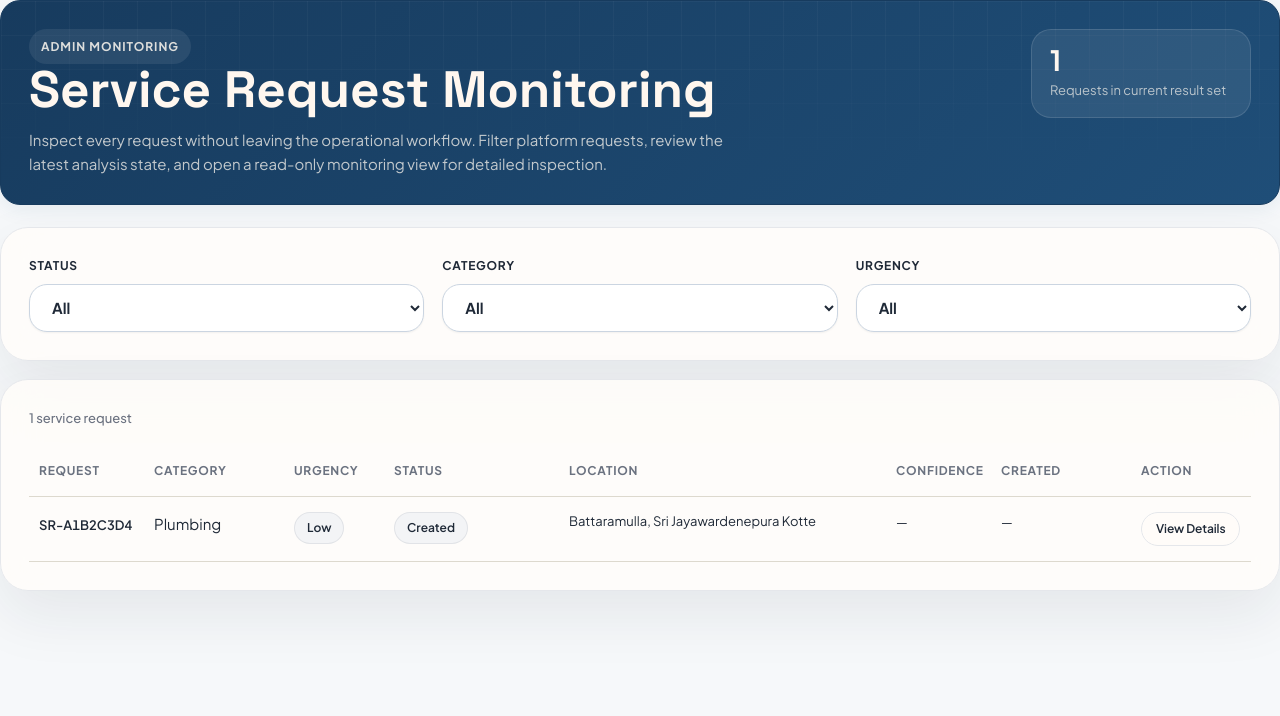
Persisted Admin location presentation › preserves both zero coordinate values
Click the button "View Details". click: (1191, 529)
box: [1141, 512, 1240, 546]
(page scrolled)
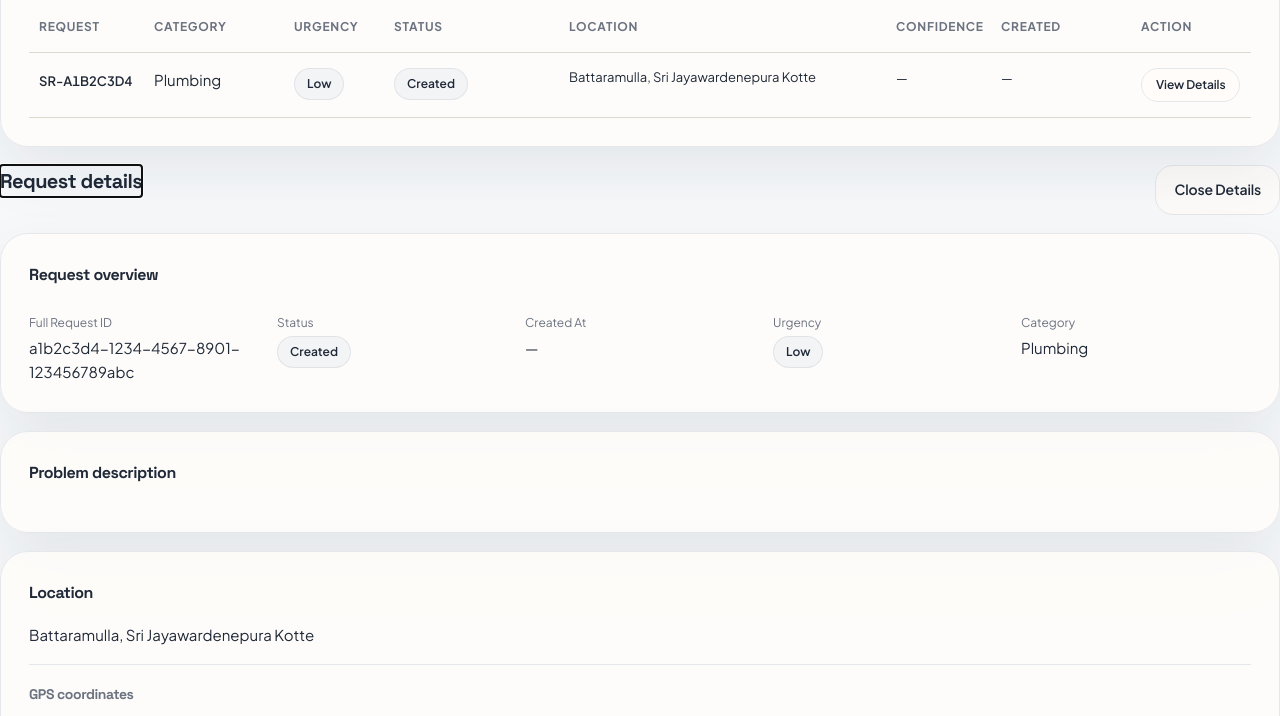
Now the text "a1b2c3d4-1234-4567-8901-123456789abc" is shown, box [29, 336, 259, 384]
